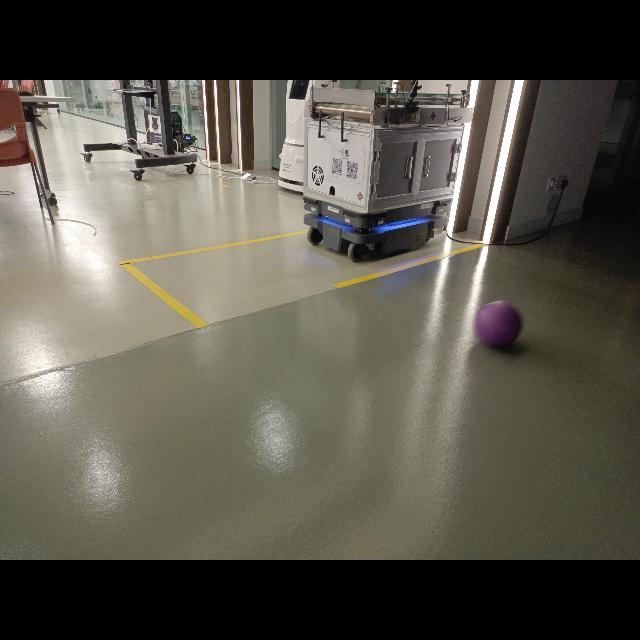P: (476, 301, 524, 345)
